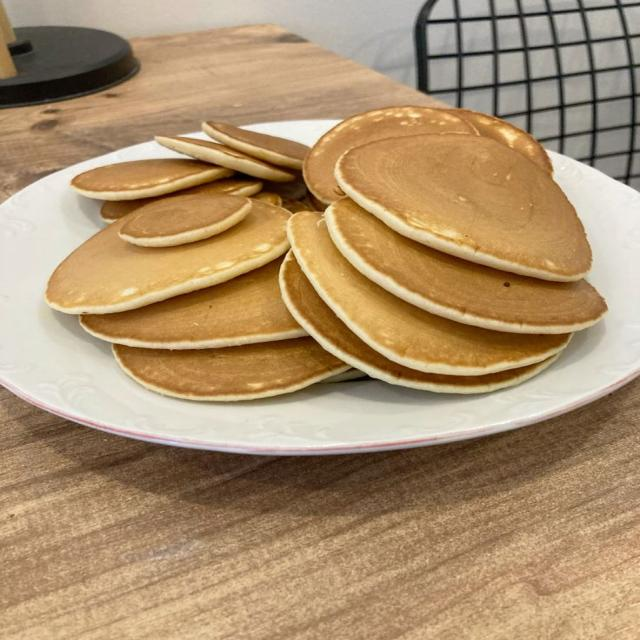pancake: (288, 213, 570, 375), (280, 252, 557, 393), (326, 199, 606, 333), (336, 136, 591, 281), (46, 201, 289, 313), (80, 259, 306, 349), (304, 106, 477, 204), (114, 337, 349, 401), (100, 179, 262, 222), (119, 195, 251, 247), (447, 109, 553, 173), (71, 159, 233, 200), (155, 137, 294, 182), (202, 121, 309, 169), (263, 171, 307, 199), (320, 368, 366, 383), (303, 192, 326, 212), (283, 198, 312, 213), (253, 192, 282, 206)
